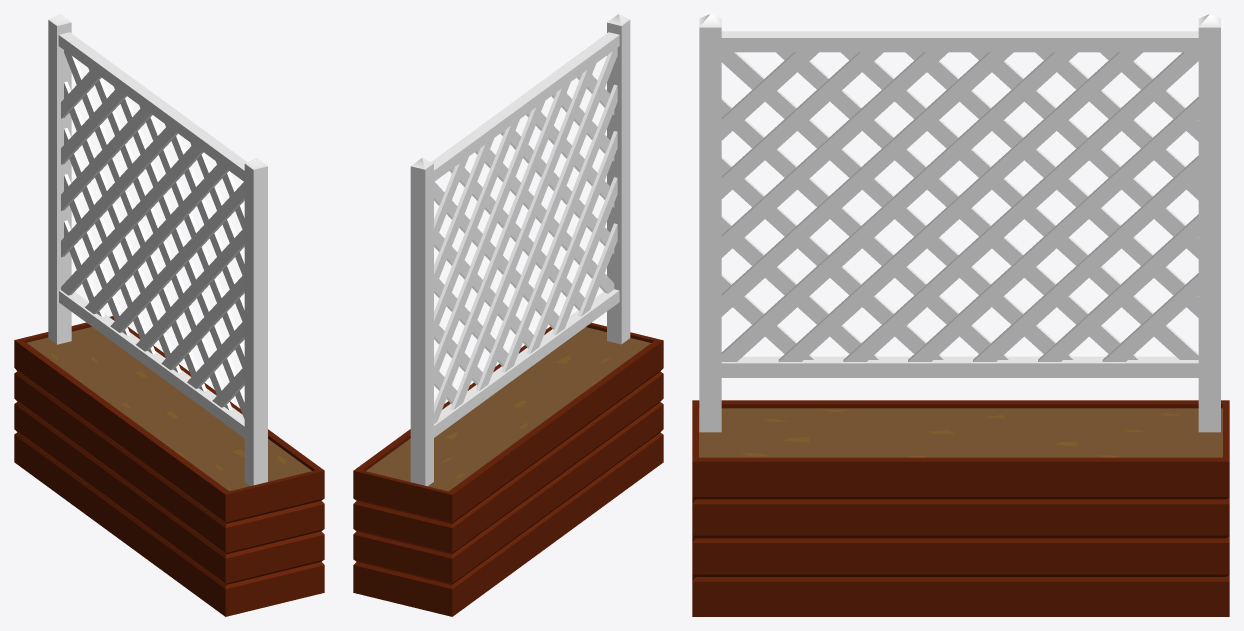
File: GameObject.fbx
3 views of the same model, side by side, from view 1: azimuth 30°, elevation 25°; view 2: azimuth 150°, elevation 25°; view 3: azimuth 270°, elevation 25° (orthographic). The views are drawn at different scales.
Parts seen in each view (by area): view 1: trellis (4), Cube (18); view 2: trellis (4), Cube (18); view 3: trellis (4), Cube (18).
Part boxes in pixels (bbox=[...]): trellis (4): bbox=[48, 14, 267, 485]; Cube (18): bbox=[14, 316, 324, 616]; trellis (4): bbox=[410, 14, 630, 486]; Cube (18): bbox=[353, 322, 663, 616]; trellis (4): bbox=[699, 14, 1220, 432]; Cube (18): bbox=[692, 400, 1229, 616].
Bounding box in the file's own units: 1.41 × 6.05 × 5.22.
